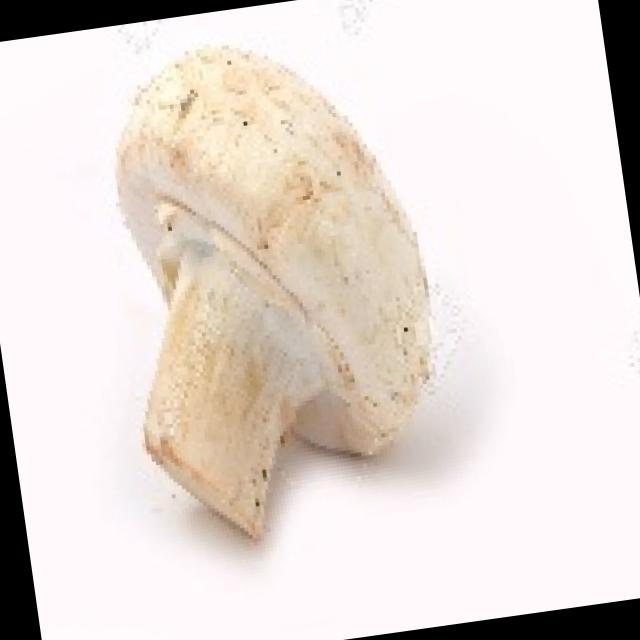mushroom: (86, 0, 479, 559)
